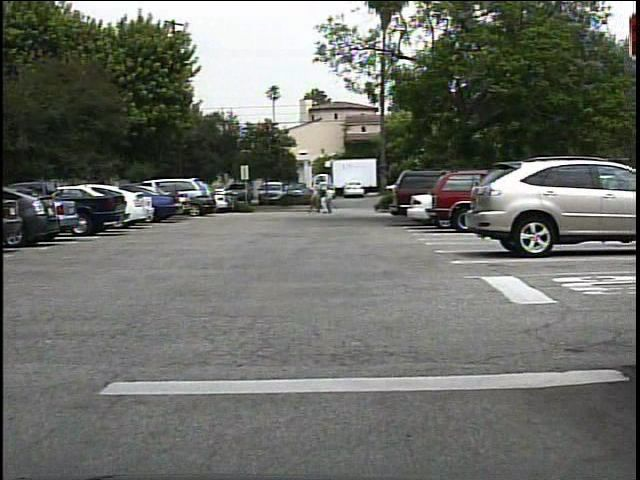person: (323, 186, 340, 216), (306, 185, 321, 215), (325, 186, 326, 216)
